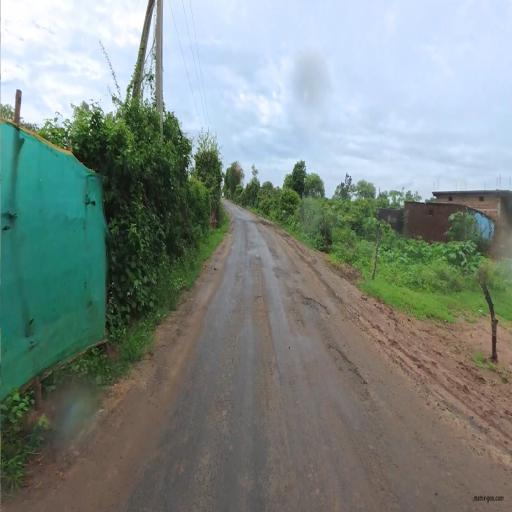ravelling: (265, 214, 385, 421)
